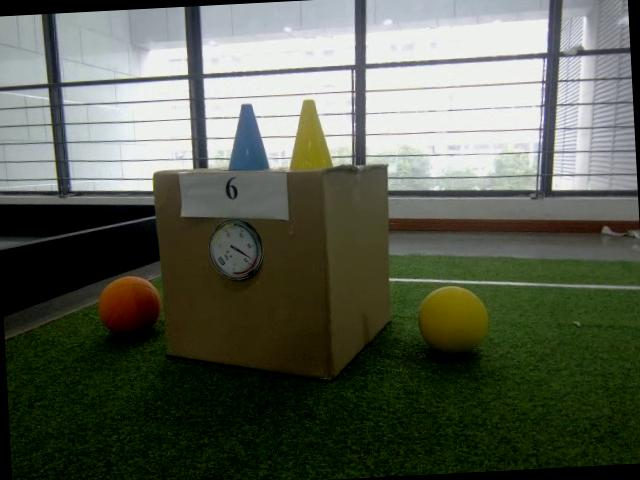6: (222, 176, 242, 202)
Dashboard: (209, 219, 267, 282)
blue_barrel: (228, 100, 270, 172)
orange_ball: (99, 276, 162, 338)
ssi: (217, 255, 228, 268)
yellow_ball: (418, 285, 492, 355)
yellow_barrel: (289, 98, 333, 172)
